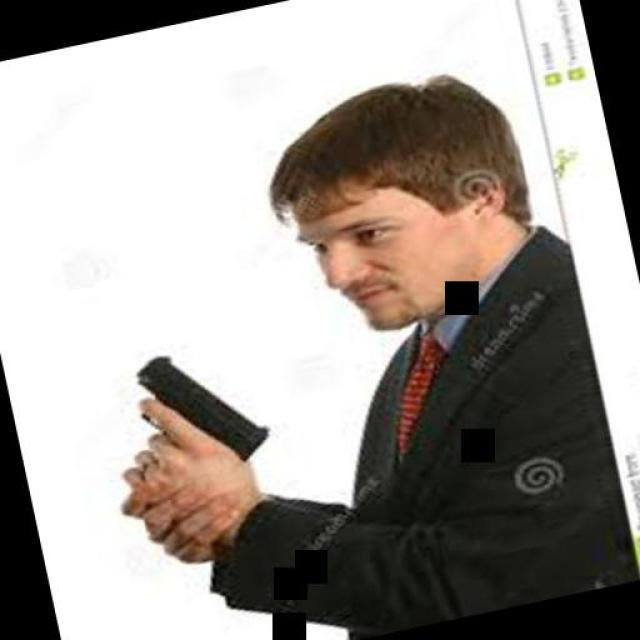gun: (101, 330, 276, 499)
